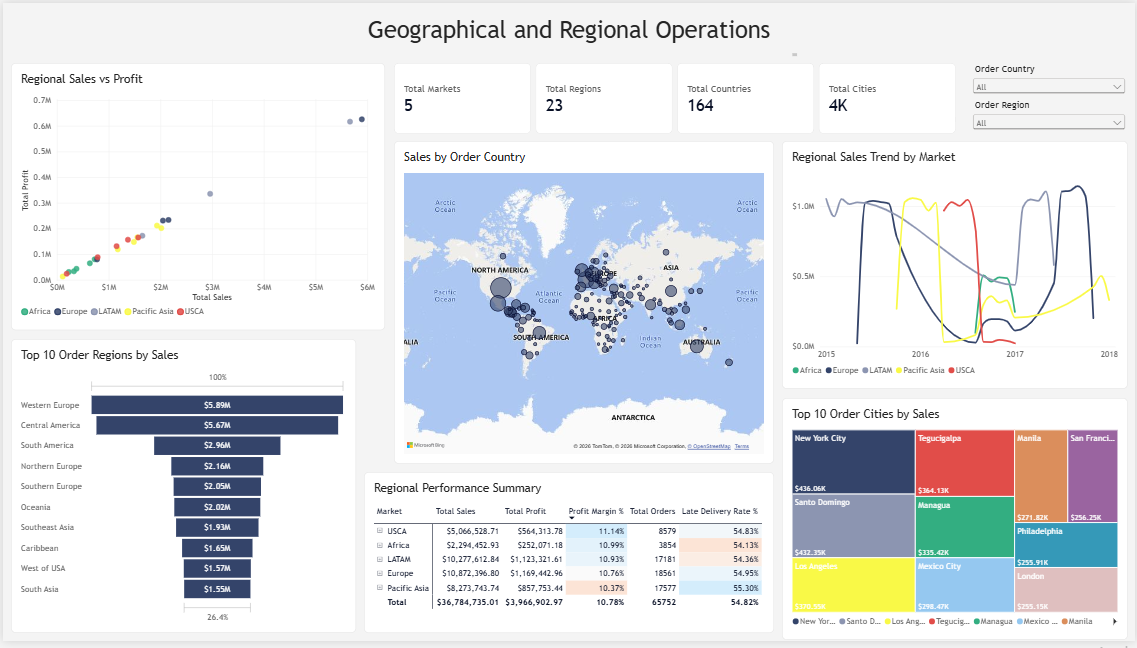

What the dashboard file says about the page in this screenshot:
{"tool":"powerbi","page":{"name":"Geographic & Regional Operations","canvas":[1920,1080],"ordinal":4},"visuals":[{"type":"cardVisual","fields":{"Data":["customers.Total Markets","customers.Total Regions","customers.Total Countries","customers.Total Cities"]},"box":[662.7,101.7,952.5,120.3],"z":0},{"type":"scatterChart","title":"Regional Sales vs Profit","fields":{"Category":["orders.Order Region"],"Series":["orders.Market"],"X":["order_items.Total Sales"],"Y":["order_items.Total Profit"]},"box":[13.6,101.7,633.9,452.5],"z":1000},{"type":"map","title":"Sales by Order Country","fields":{"Category":["orders.Order Country"],"Size":["order_items.Total Sales"]},"box":[662.7,233.9,644.1,547.5],"z":2000},{"type":"funnel","title":"Top 10 Order Regions by Sales","fields":{"Category":["orders.Order Region"],"Y":["order_items.Total Sales"]},"box":[13.6,569.5,584.7,498.3],"z":3000},{"type":"pivotTable","title":"Regional Performance Summary","fields":{"Rows":["orders.Market","orders.Order Region"],"Values":["order_items.Total Sales","order_items.Total Profit","order_items.Profit Margin %","orders.Total Orders","customers.Late Delivery Rate %"]},"box":[611.9,794.9,694.9,272.9],"z":4000},{"type":"lineChart","title":"Regional Sales Trend by Market","fields":{"Category":["orders.order date (DateOrders).Variation.Date Hierarchy.Year","orders.order date (DateOrders).Variation.Date Hierarchy.Quarter","orders.order date (DateOrders).Variation.Date Hierarchy.Month"],"Series":["orders.Market"],"Y":["order_items.Total Sales"]},"box":[1320.3,233.9,586.4,420.3],"z":5000},{"type":"slicer","fields":{"Values":["orders.Order Region"]},"box":[1639,162.7,267.8,59.3],"z":6000},{"type":"treemap","title":"Top 10 Order Cities by Sales","fields":{"Group":["orders.Order City"],"Values":["order_items.Total Sales"]},"box":[1320.3,669.5,586.4,410.2],"z":7000},{"type":"slicer","fields":{"Values":["orders.Order Country"]},"box":[1639,101.7,267.8,79.7],"z":8000},{"type":"textbox","title":"Geographical and Regional Operations","box":[572.9,22,772.9,67.8],"z":8001}]}

Visuals, with their boxes in screenshot pixels (x1, y1, x2, y2), scaled from the page's 1920x1080 canvas onto the 1137x648 screenshot:
cardVisual - customers.Total Markets x customers.Total Regions: 392/61/957/133
"Regional Sales vs Profit" scatterChart: 8/61/383/333
"Sales by Order Country" map: 392/140/774/469
"Top 10 Order Regions by Sales" funnel: 8/342/354/641
"Regional Performance Summary" pivotTable: 362/477/774/641
"Regional Sales Trend by Market" lineChart: 782/140/1129/393
slicer - orders.Order Region: 971/98/1129/133
"Top 10 Order Cities by Sales" treemap: 782/402/1129/647
slicer - orders.Order Country: 971/61/1129/109
"Geographical and Regional Operations" textbox: 339/13/797/54
